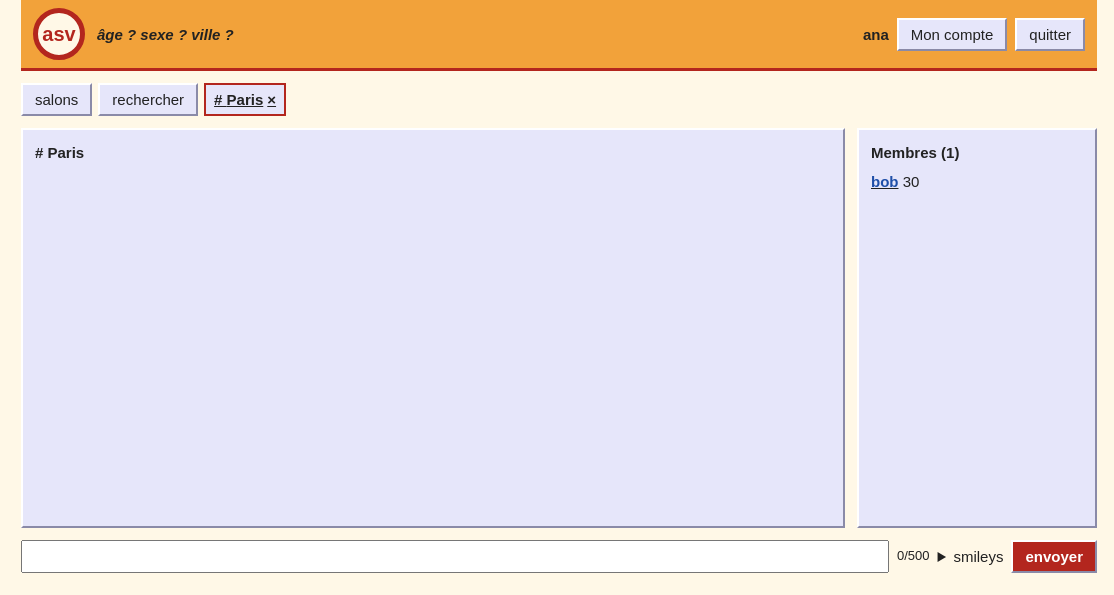
room screen › counts characters, not UTF-16 units
Type "a😀" into the field named "message". click: point(455, 556)
box: [21,540,889,573]
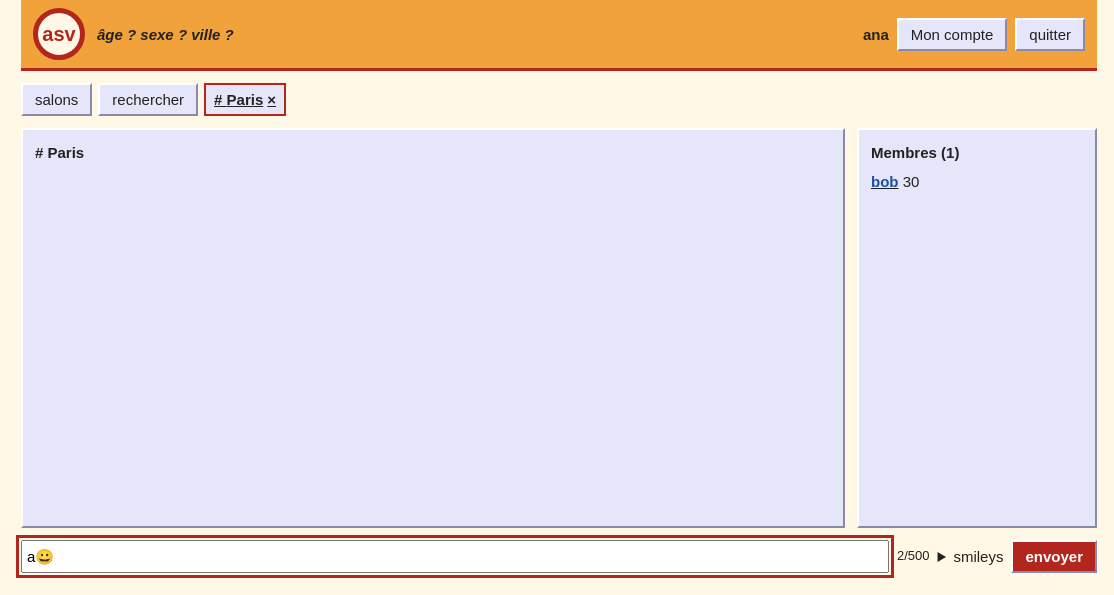
Result: the text "2/500" is shown at [897,547,930,566]
